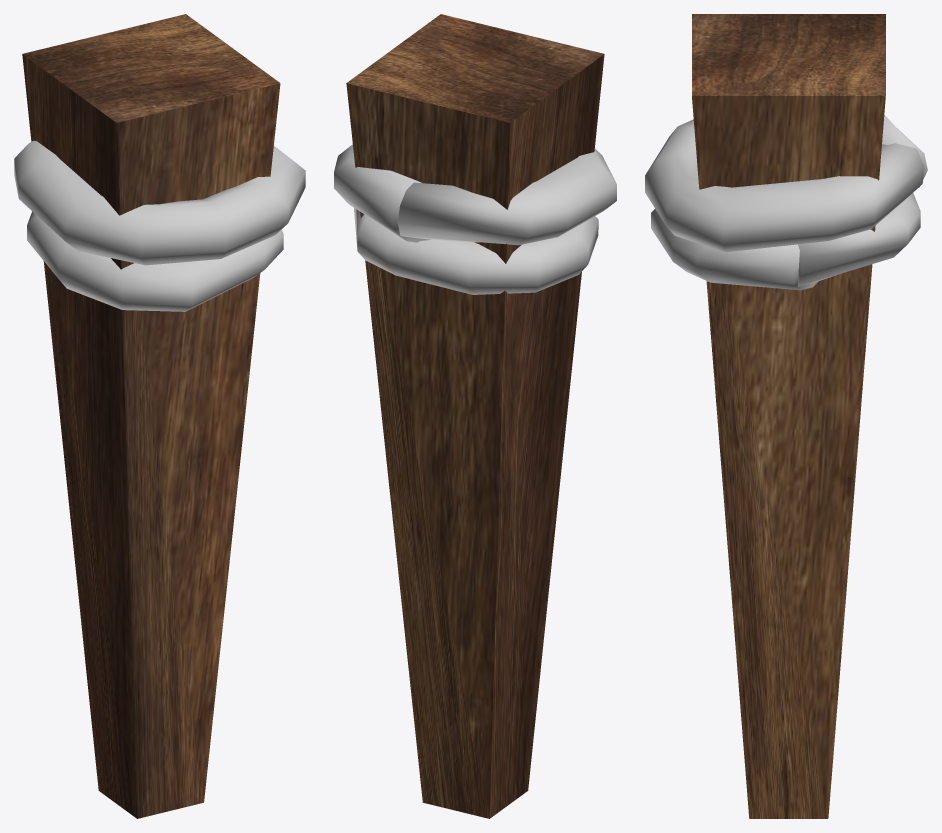
Rendered from wood_pillar.fbx.
The picture shows the model from 3 angles, left to right: view 1: azimuth 30°, elevation 25°; view 2: azimuth 150°, elevation 25°; view 3: azimuth 270°, elevation 25°; orthographic projection. The views are drawn at different scales.
Visible parts, largest first — view 1: wood_pillar, rope2, rope2.001; view 2: wood_pillar, rope2, rope2.001; view 3: wood_pillar, rope2, rope2.001.
Boxes of the visible parts, left/top/right/bottom form: wood_pillar: left=22, top=14, right=280, bottom=818; rope2: left=14, top=140, right=305, bottom=265; rope2.001: left=27, top=211, right=283, bottom=311; wood_pillar: left=346, top=14, right=604, bottom=818; rope2: left=334, top=144, right=616, bottom=245; rope2.001: left=354, top=208, right=598, bottom=294; wood_pillar: left=692, top=14, right=885, bottom=818; rope2: left=645, top=115, right=927, bottom=252; rope2.001: left=651, top=193, right=920, bottom=290.
Bounding box in the file's own units: 289 × 850 × 292.
